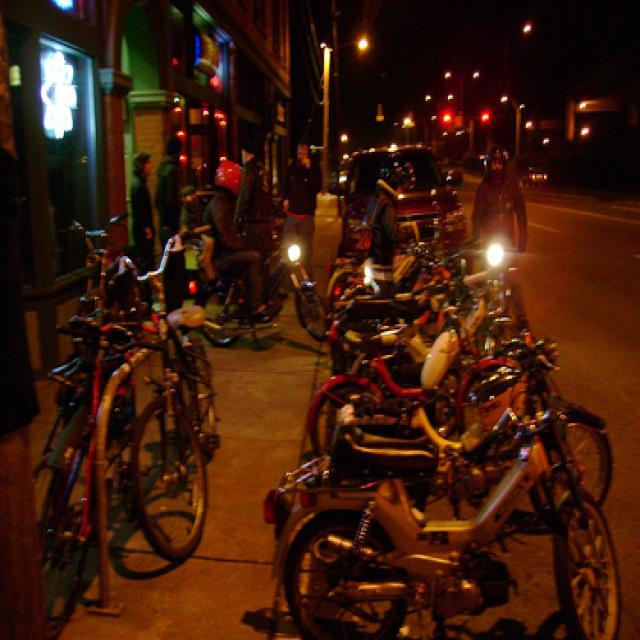Bicycle: (23, 205, 135, 620), (129, 280, 221, 554)
Motorbike: (257, 331, 623, 640), (290, 345, 640, 536), (311, 258, 589, 407)
People: (209, 157, 270, 318), (473, 141, 529, 262), (275, 133, 327, 254), (157, 127, 198, 233), (180, 183, 211, 270), (127, 145, 159, 229)
car: (325, 138, 480, 263)
